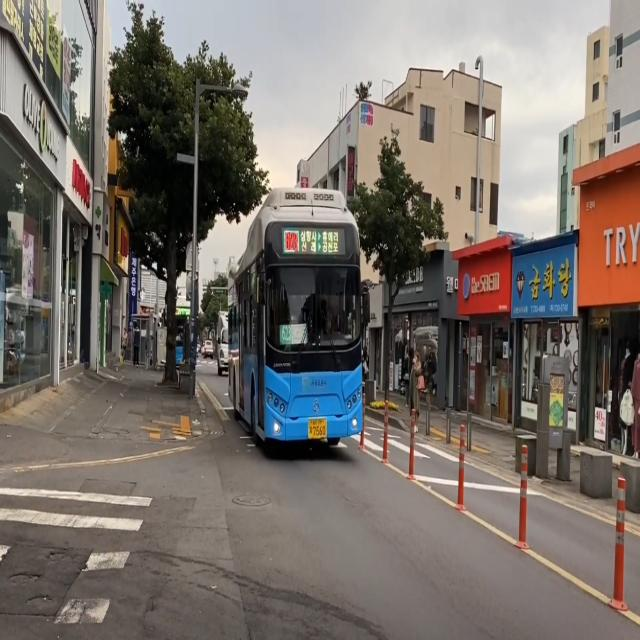bus-number: (284, 231, 298, 251)
